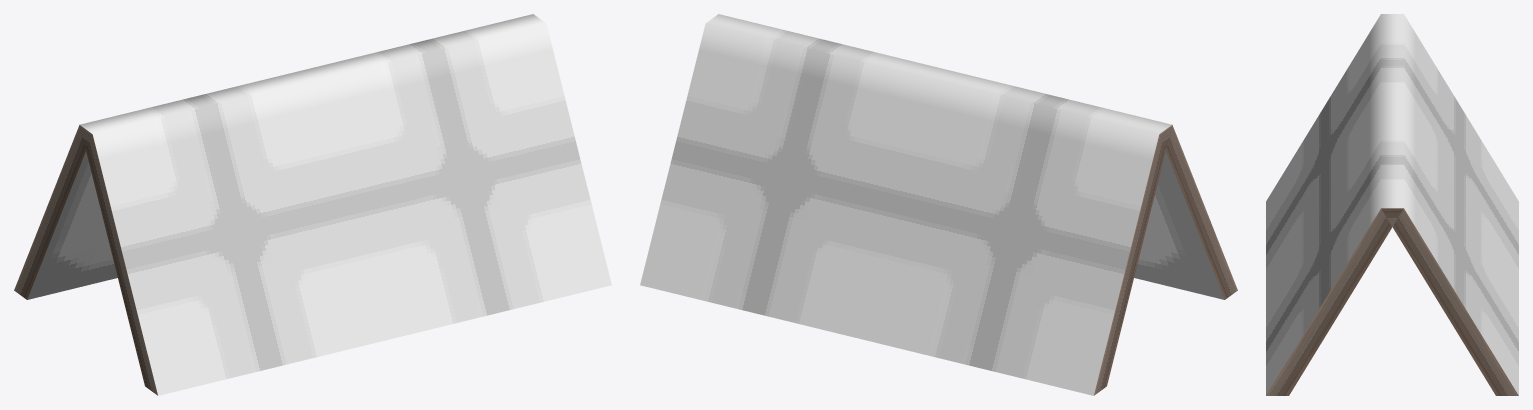
File: SM_Roof_Top_01.fbx
3 views of the same model, side by side, from view 1: azimuth 30°, elevation 25°; view 2: azimuth 150°, elevation 25°; view 3: azimuth 270°, elevation 25° (orthographic). The views are drawn at different scales.
Parts seen in each view (by area): view 1: SM_Roof_Top_01; view 2: SM_Roof_Top_01; view 3: SM_Roof_Top_01.
Part boxes in pixels (box(x1,y1,x2,y2)): SM_Roof_Top_01: box(14, 14, 611, 395); SM_Roof_Top_01: box(640, 14, 1237, 395); SM_Roof_Top_01: box(1266, 14, 1518, 395).
Bounding box in the file's own units: 1000 × 550 × 450.
